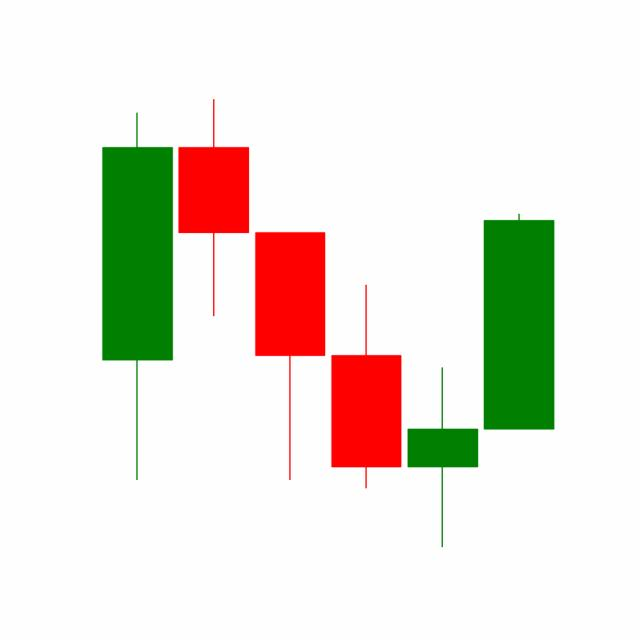Spinning Top: (403, 364, 481, 549)
